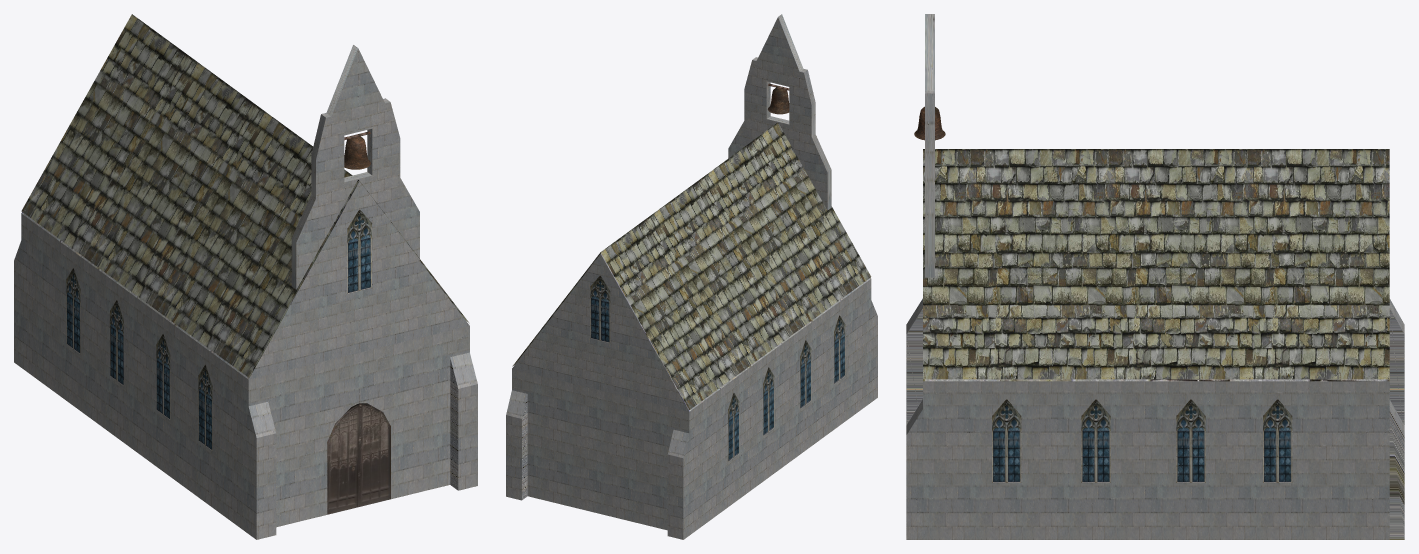
The model's file is Church.FBX.
3 renders of one model, left to right at view 1: azimuth 30°, elevation 25°; view 2: azimuth 150°, elevation 25°; view 3: azimuth 270°, elevation 25°, orthographic. The views are drawn at different scales.
Parts seen in each view (by area): view 1: ChurchBox, SlateRoof, Prism001, Tallthing, Doorway, window, window001, window002, window004, window003, Cone001; view 2: ChurchBox, SlateRoof, Prism001, Tallthing, Window001, window004, window001, window002, window003, Cone001; view 3: SlateRoof, ChurchBox, Tallthing, window007, window006, window005, window008, Prism001.
Boxes of the visible parts, x1,y1,x2,y2 form: ChurchBox: [14, 213, 477, 539]; SlateRoof: [21, 14, 469, 377]; Prism001: [21, 182, 469, 379]; Tallthing: [291, 45, 419, 289]; Doorway: [327, 403, 390, 514]; window: [347, 209, 371, 293]; window001: [198, 364, 212, 450]; window002: [156, 334, 170, 419]; window004: [66, 268, 80, 354]; window003: [110, 300, 123, 385]; Cone001: [344, 136, 370, 169]; ChurchBox: [506, 279, 877, 539]; SlateRoof: [512, 122, 871, 409]; Prism001: [512, 253, 871, 411]; Tallthing: [728, 14, 831, 210]; Window001: [590, 275, 610, 343]; window004: [728, 392, 739, 461]; window001: [834, 315, 845, 384]; window002: [800, 340, 811, 408]; window003: [763, 367, 774, 436]; Cone001: [768, 87, 789, 114]; SlateRoof: [923, 149, 1389, 379]; ChurchBox: [906, 298, 1404, 539]; Tallthing: [925, 14, 934, 277]; window007: [1081, 399, 1110, 482]; window006: [1176, 399, 1205, 482]; window005: [1263, 399, 1292, 482]; window008: [992, 399, 1021, 482]; Prism001: [923, 379, 1389, 381].
Size of the model in its own units: 46.36 by 89.03 by 85.41.
